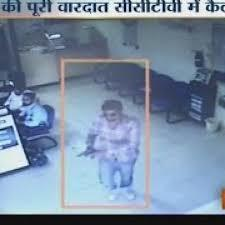weapon: (73, 146, 99, 160)
